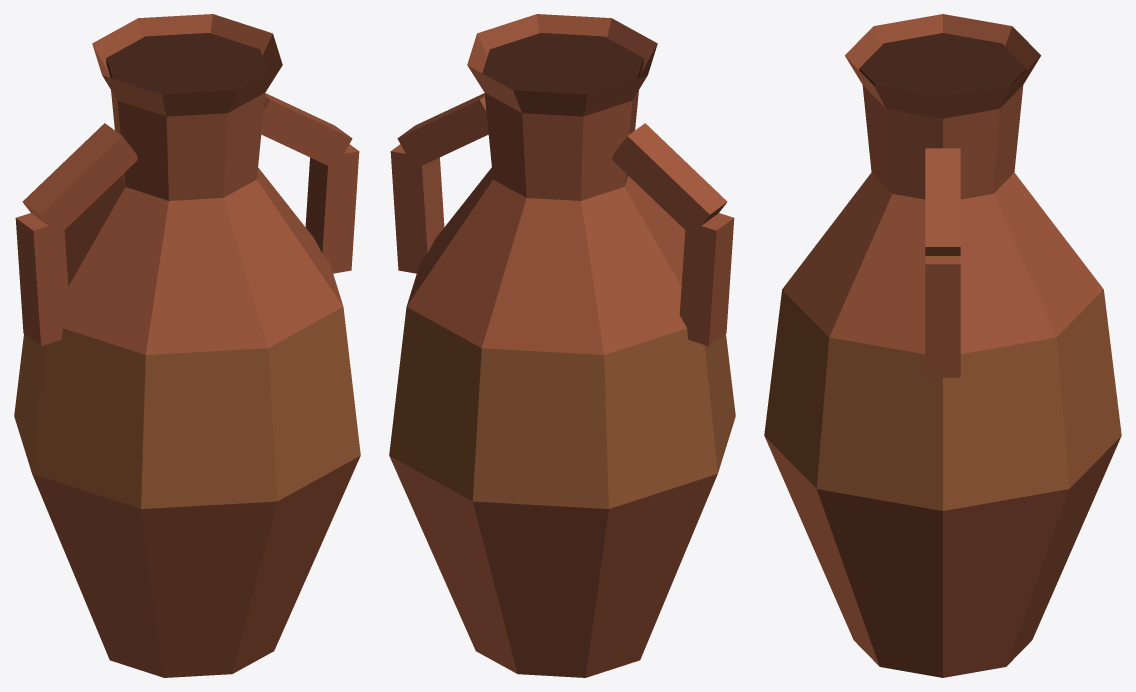
Rendered from vase-05.glb.
3 views of the same model, side by side, from view 1: azimuth 30°, elevation 25°; view 2: azimuth 150°, elevation 25°; view 3: azimuth 270°, elevation 25° (orthographic).
Parts seen in each view (by area): view 1: vase_05; view 2: vase_05; view 3: vase_05.
Boxes of the visible parts, x1,y1,x2,y2 form: vase_05: (14,14,360,677); vase_05: (389,14,735,677); vase_05: (764,14,1121,677).
Size of the model in its own units: 0.2124 by 0.3656 by 0.2026.
